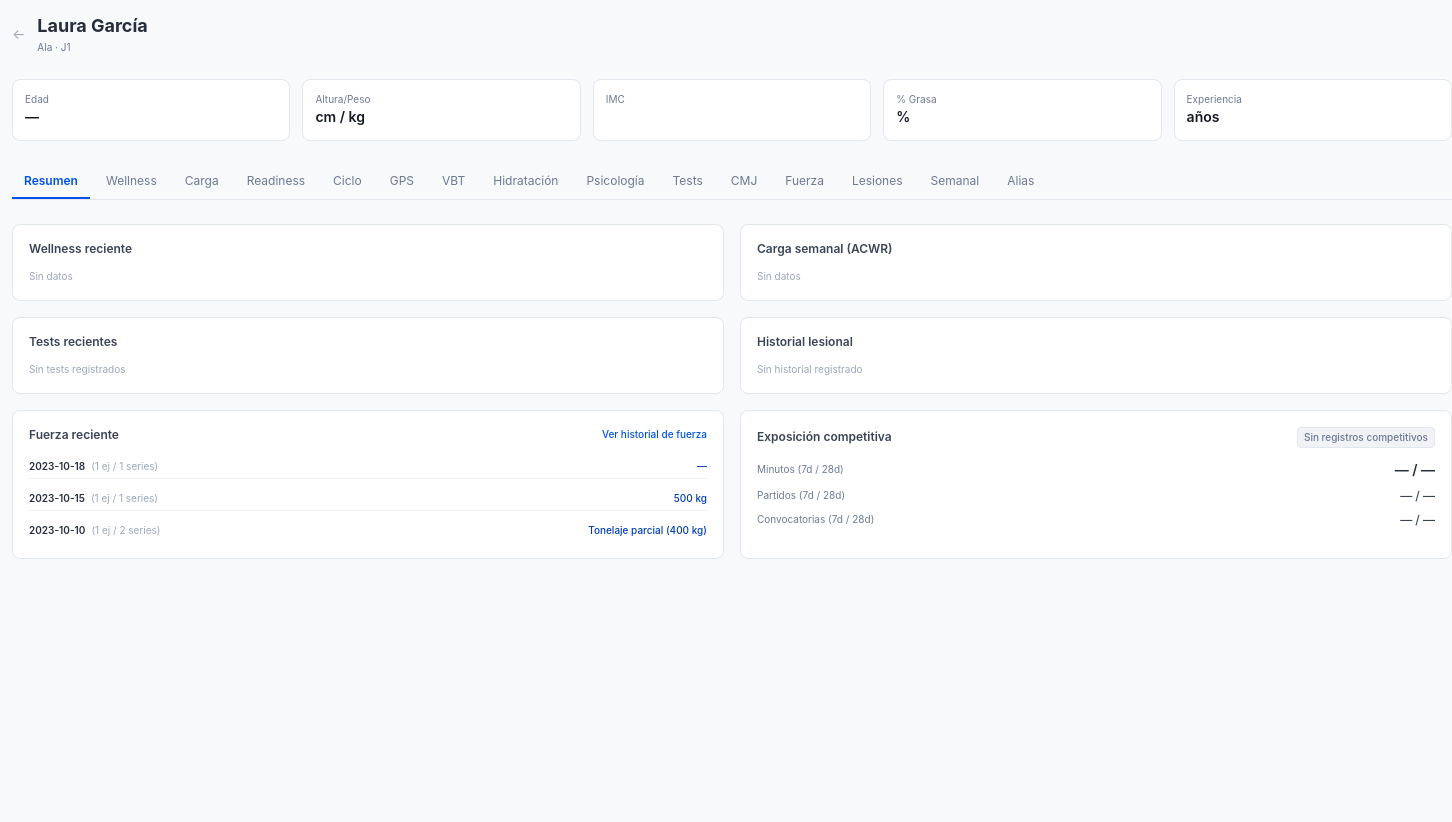
PlayerProfilePage (Pestaña e Historial de Fuerza) › 7, 8, 9, 10, 11, 12. Filtros locales (desde, hasta, finalidad, ejercicio), restablecer y estado sin coincidencias
Click the button "Fuerza". click: (805, 182)
box: [773,164,836,198]
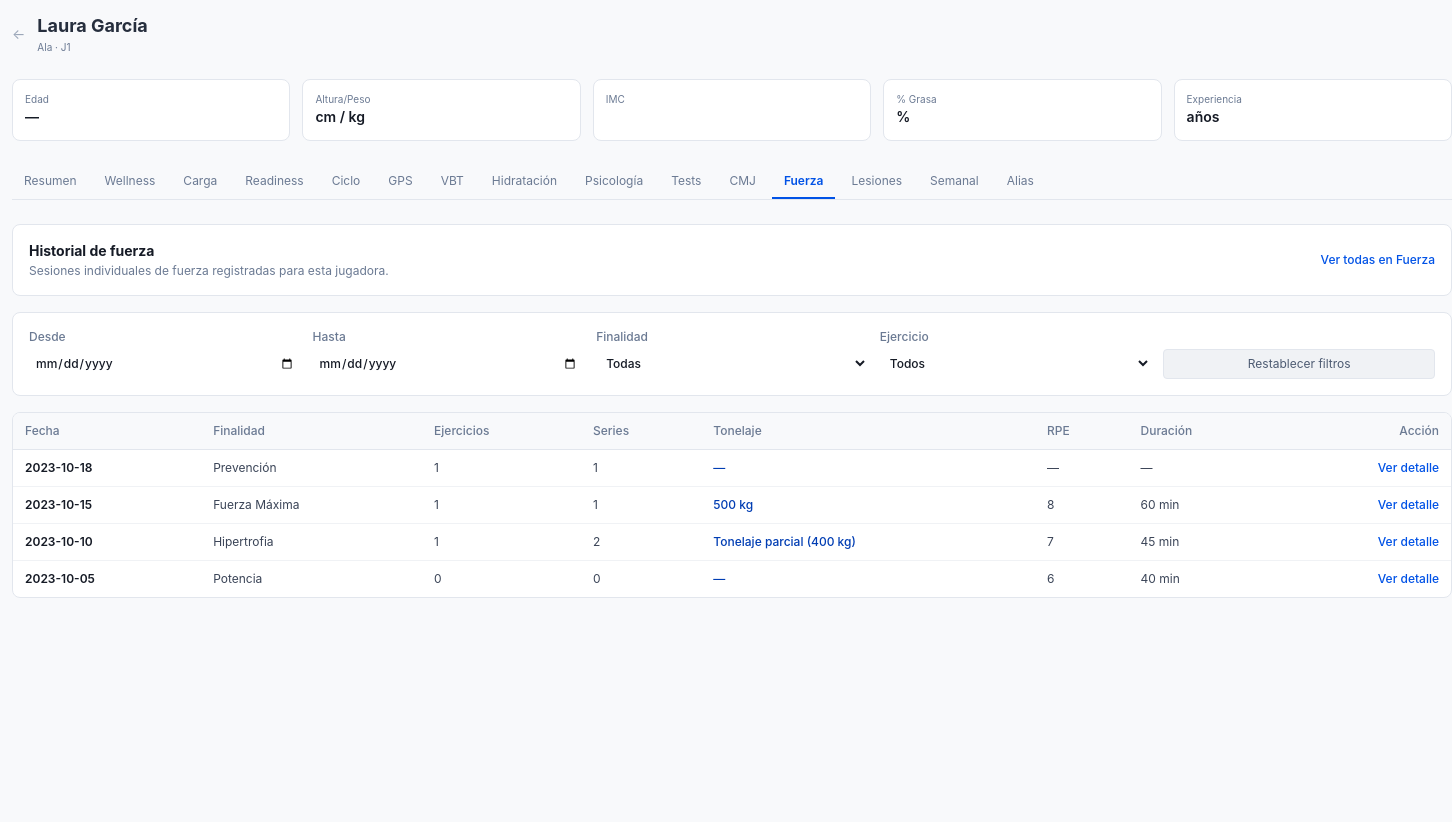
// Filtro por finalidad: Fuerza Máxima
Select "Fuerza Máxima" in the 1st dropdown. click: (732, 363)
box: [596,348,868,378]
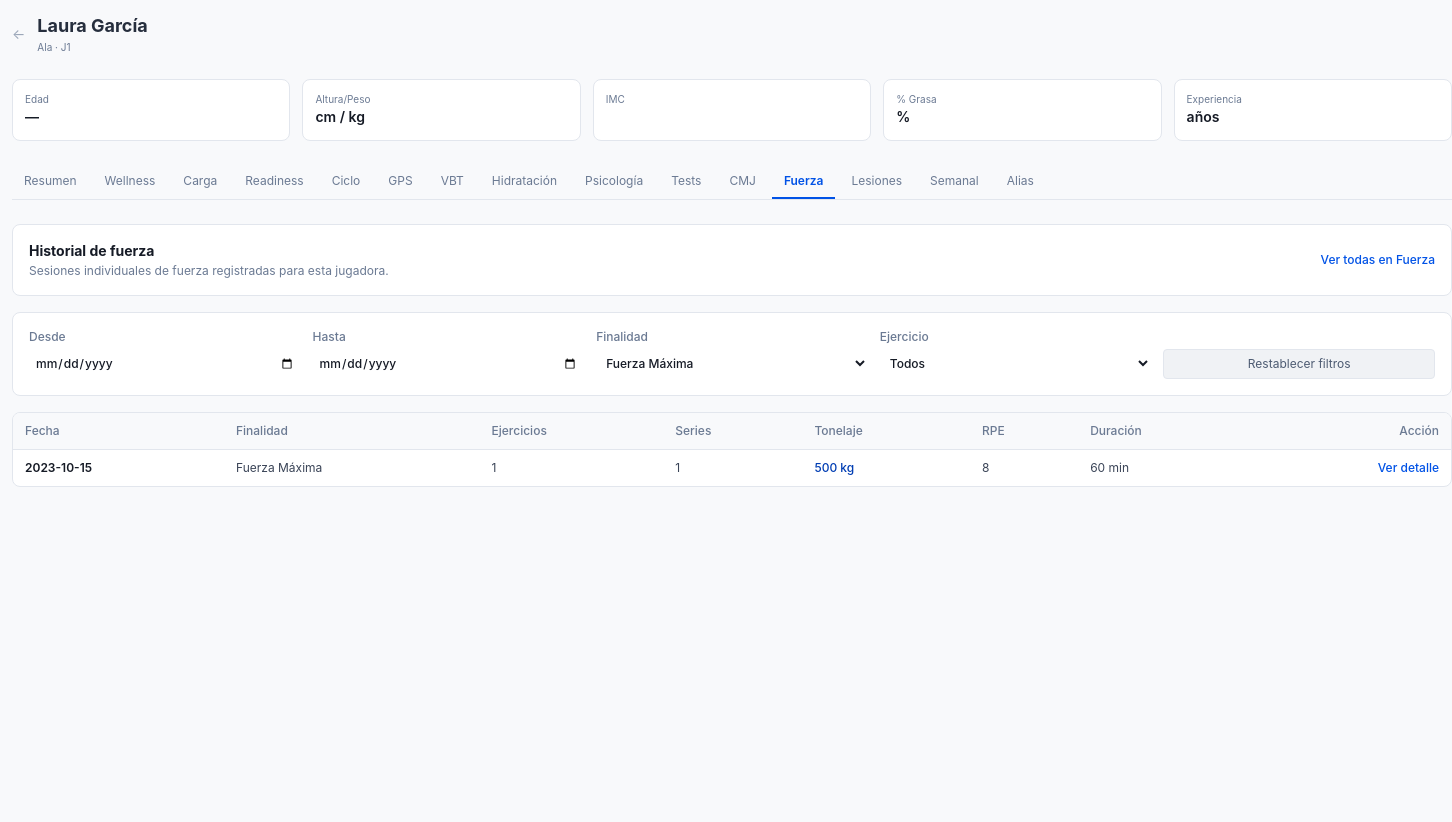
Check: the text "2023-10-15" is shown, box [13,449,224,486]
Check: the text "2023-10-18" is gone
// Restablecer filtros
Click the button "Restablecer filtros". click: (1299, 364)
box: [1163,348,1435,378]
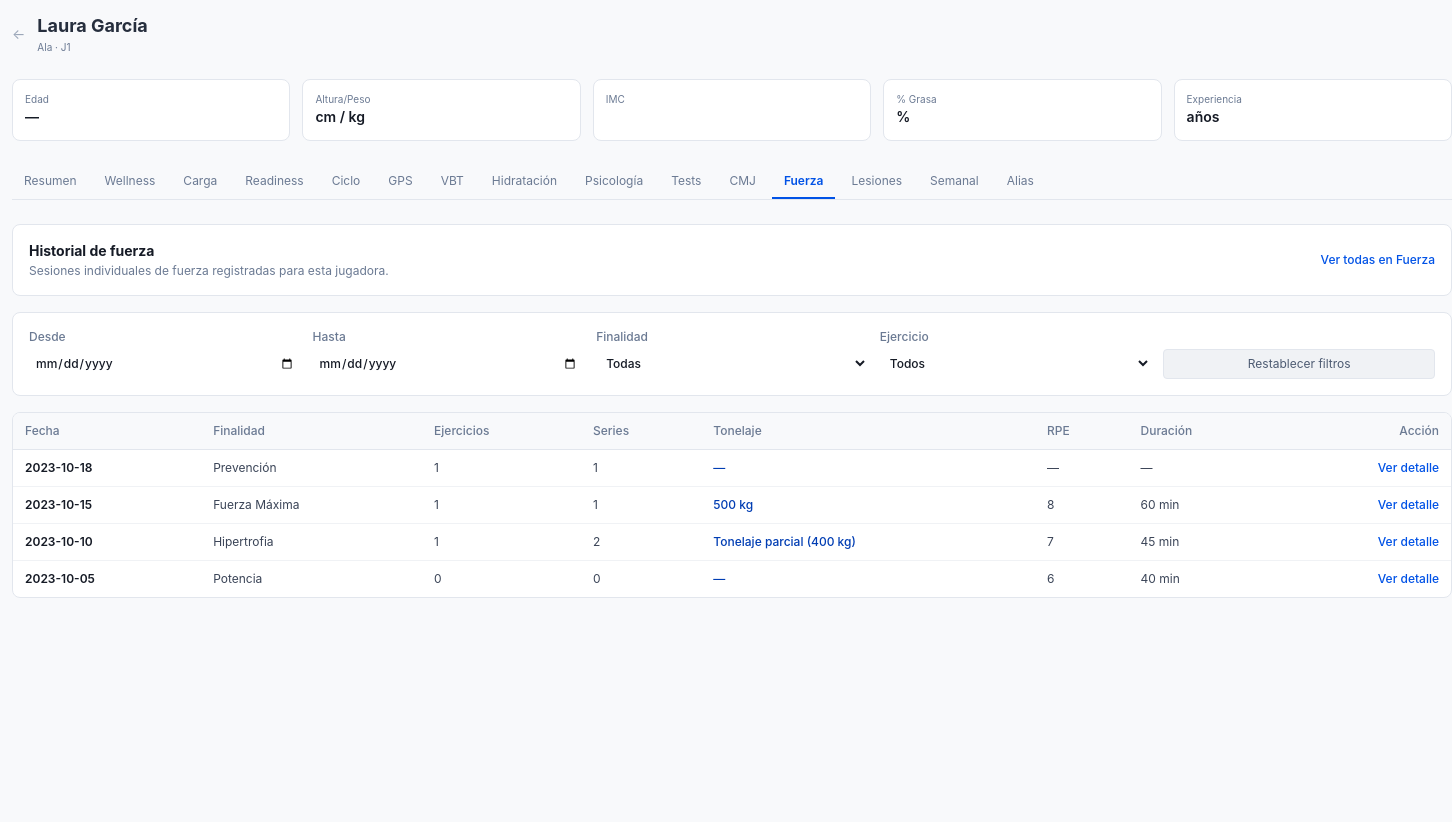
Check: the text "2023-10-18" is shown, box [13,449,201,486]
Type "2030-01-01" into the date field below "Desde". click: (165, 364)
box: [29,348,301,378]
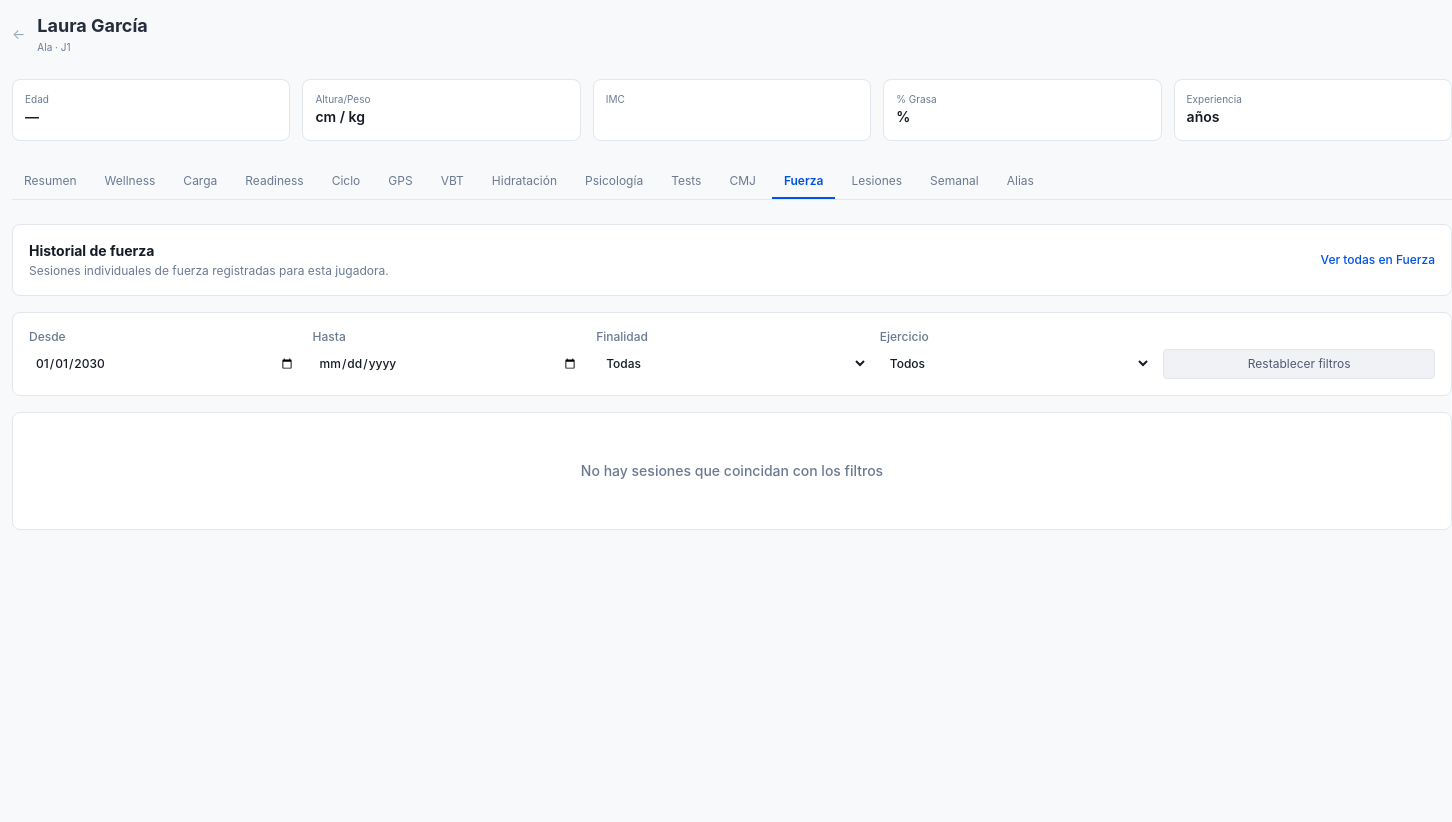
Check: the text "No hay sesiones que coincidan con los filtros" is shown, box [581,462,883,478]
